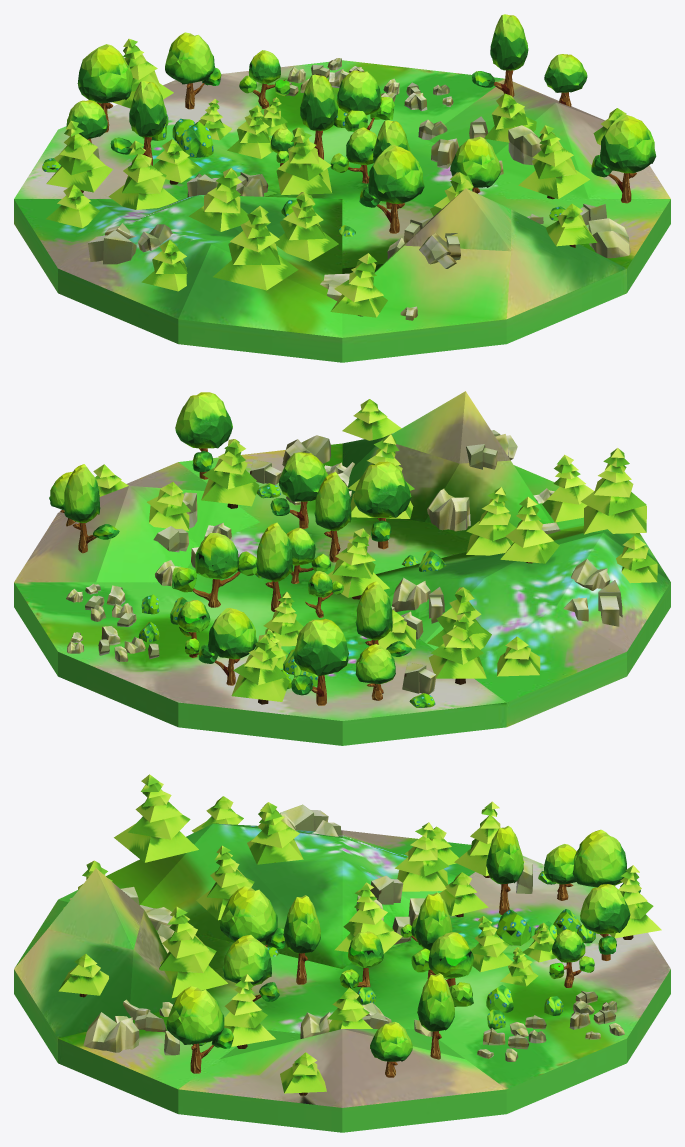
3 views of the same model, one above another, from view 1: azimuth 30°, elevation 25°; view 2: azimuth 150°, elevation 25°; view 3: azimuth 270°, elevation 25° (orthographic).
Visible parts, largest first — view 1: Cylinder004, Hedra024, Hedra039, Hedra008, Hedra037, Hedra006, Hedra027, Hedra035, Hedra020, Hedra010, Cone021, Box013 (+32 smaller); view 2: Cylinder004, Hedra024, Hedra008, Hedra039, Hedra037, Hedra006, Hedra023, Hedra027, Hedra035, Hedra020, Hedra010, Cone021 (+34 smaller); view 3: Cylinder004, Hedra024, Hedra039, Hedra008, Hedra037, Hedra006, Hedra020, Hedra023, Hedra027, Hedra010, Box013, Cone021 (+26 smaller).
Boxes of the visible parts, bbox=[...] form: Cylinder004: bbox=[14, 60, 670, 362]; Hedra024: bbox=[600, 114, 656, 173]; Hedra039: bbox=[77, 44, 132, 103]; Hedra008: bbox=[368, 145, 424, 203]; Hedra037: bbox=[165, 32, 214, 84]; Hedra006: bbox=[450, 136, 500, 187]; Hedra027: bbox=[490, 14, 528, 70]; Hedra035: bbox=[300, 74, 337, 130]; Hedra020: bbox=[129, 81, 166, 137]; Hedra010: bbox=[337, 70, 381, 115]; Cone021: bbox=[213, 255, 298, 290]; Box013: bbox=[588, 218, 630, 258]; Cylinder004: bbox=[14, 391, 670, 745]; Hedra024: bbox=[175, 392, 232, 448]; Hedra008: bbox=[353, 461, 411, 517]; Hedra039: bbox=[294, 618, 348, 675]; Hedra037: bbox=[208, 608, 257, 659]; Hedra006: bbox=[279, 452, 327, 501]; Hedra023: bbox=[314, 472, 351, 531]; Hedra027: bbox=[63, 464, 100, 523]; Hedra035: bbox=[256, 522, 292, 581]; Hedra020: bbox=[355, 581, 392, 640]; Hedra010: bbox=[195, 533, 239, 579]; Cone021: bbox=[583, 505, 646, 534]; Cylinder004: bbox=[14, 823, 670, 1132]; Hedra024: bbox=[166, 986, 224, 1044]; Hedra039: bbox=[572, 829, 626, 887]; Hedra008: bbox=[220, 886, 277, 942]; Hedra037: bbox=[580, 884, 630, 933]; Hedra006: bbox=[222, 934, 271, 985]; Hedra020: bbox=[486, 826, 523, 883]; Hedra023: bbox=[283, 895, 320, 953]; Hedra027: bbox=[417, 973, 454, 1031]; Hedra010: bbox=[428, 932, 473, 978]; Box013: bbox=[83, 1012, 139, 1052]; Cone021: bbox=[114, 823, 198, 862].
Size of the model in its own units: 3328 by 740 by 3328.
Materials: 1 (1 with a texture image).
